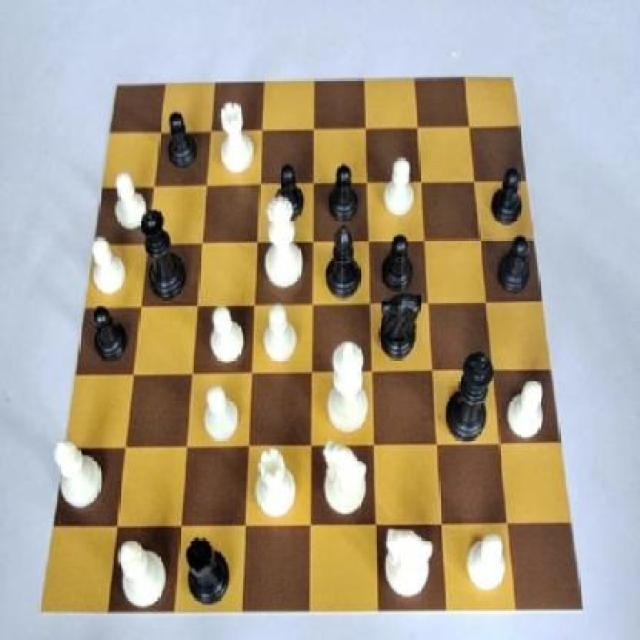bishop: (318, 229, 364, 303)
black-bishop: (441, 344, 497, 446)
black-king: (375, 285, 424, 366)
black-knight: (488, 231, 538, 297), (160, 109, 204, 180), (89, 303, 133, 372), (481, 163, 527, 229), (380, 228, 420, 290), (325, 163, 362, 223), (272, 158, 305, 222)
black-pawn: (136, 210, 192, 312)
black-queen: (185, 537, 237, 609)
black-rook: (51, 435, 110, 517), (112, 537, 168, 613)
white-bishop: (323, 340, 375, 445)
white-king: (385, 520, 437, 606), (320, 440, 369, 525)
white-knight: (260, 300, 305, 368), (468, 520, 507, 598), (508, 374, 548, 445), (86, 235, 130, 298), (377, 152, 418, 218), (105, 168, 147, 230), (202, 383, 240, 448), (203, 305, 245, 363)
white-pawn: (259, 198, 306, 294)
white-queen: (248, 446, 304, 528), (218, 102, 258, 179)
